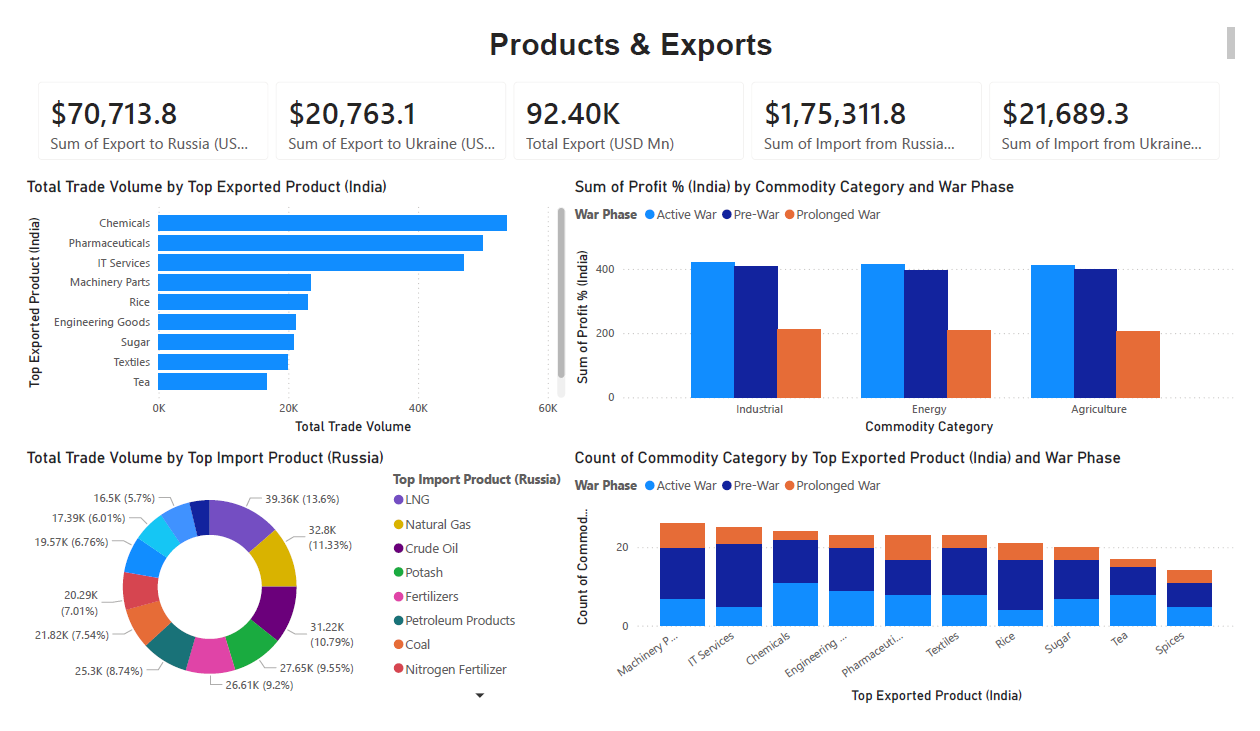

What the dashboard file says about the page in this screenshot:
{"tool":"powerbi","page":{"name":" Products & Exports","canvas":[1280,720],"ordinal":2},"visuals":[{"type":"textbox","box":[0,0,1280.3,45],"z":0},{"type":"barChart","fields":{"Category":["Trade Dataset.Top Exported Product (India)"],"Y":["Trade Dataset.Total Trade Volume"]},"box":[0,162,575.9,275.1],"z":1000},{"type":"cardVisual","fields":{"Data":["Sum(Trade Dataset.Export to Russia (USD Mn))","Sum(Trade Dataset.Export to Ukraine (USD Mn))","Trade Dataset.Total Export (USD Mn)","Sum(Trade Dataset.Import from Russia (USD Mn))","Sum(Trade Dataset.Import from Ukraine (USD Mn))"]},"box":[0,45,1280.3,117],"z":2000},{"type":"donutChart","fields":{"Category":["Trade Dataset.Top Import Product (Russia)"],"Y":["Trade Dataset.Total Trade Volume"]},"box":[0,447,576,273],"z":3000},{"type":"clusteredColumnChart","fields":{"Category":["Trade Dataset.Commodity Category"],"Y":["Sum(Trade Dataset.Profit % (India))"],"Series":["Trade Dataset.War Phase"]},"box":[576,162,704,275],"z":4000},{"type":"lineStackedColumnComboChart","fields":{"Category":["Trade Dataset.Top Exported Product (India)"],"Series":["Trade Dataset.War Phase"],"Y":["CountNonNull(Trade Dataset.Commodity Category)"]},"box":[576,447,704,273],"z":5000}]}

Visuals, with their boxes on the page's 1280x720 design canvas (x1, y1, x2, y2). These are canvas units, not pixel positions in the 1260x731 screenshot, which may show the page scaled, cropped or inside an application window:
textbox: (left=0, top=0, right=1280, bottom=45)
barChart - Trade Dataset.Top Exported Product (India) x Trade Dataset.Total Trade Volume: (left=0, top=162, right=576, bottom=437)
cardVisual - Sum(Trade Dataset.Export to Russia (USD Mn)) x Sum(Trade Dataset.Export to Ukraine (USD Mn)): (left=0, top=45, right=1280, bottom=162)
donutChart - Trade Dataset.Top Import Product (Russia) x Trade Dataset.Total Trade Volume: (left=0, top=447, right=576, bottom=720)
clusteredColumnChart - Trade Dataset.Commodity Category x Sum(Trade Dataset.Profit % (India)): (left=576, top=162, right=1280, bottom=437)
lineStackedColumnComboChart - Trade Dataset.Top Exported Product (India) x Trade Dataset.War Phase: (left=576, top=447, right=1280, bottom=720)
